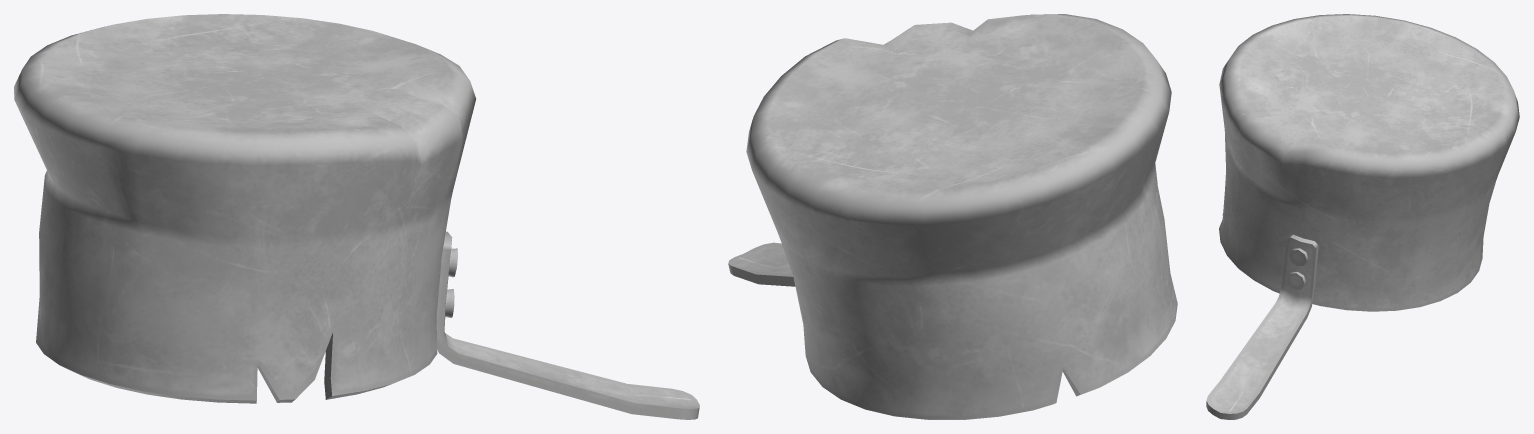
Rendered from ARM1_Cap_ZA01.glb.
The picture shows the model from 3 angles, left to right: view 1: azimuth 30°, elevation 25°; view 2: azimuth 150°, elevation 25°; view 3: azimuth 270°, elevation 25°; orthographic projection. The views are drawn at different scales.
Parts seen in each view (by area): view 1: ARM1_Cap_ZA01; view 2: ARM1_Cap_ZA01; view 3: ARM1_Cap_ZA01.
Boxes of the visible parts, left/top/right/bottom form: ARM1_Cap_ZA01: left=14, top=14, right=699, bottom=419; ARM1_Cap_ZA01: left=728, top=14, right=1177, bottom=419; ARM1_Cap_ZA01: left=1206, top=14, right=1519, bottom=419.
Size of the model in its own units: 1.25 by 0.8075 by 0.9466.
Materials: 1 (1 with a texture image).
